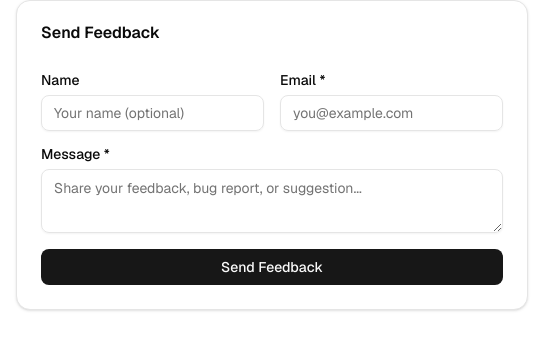
Test: FeedbackForm › shows the server error and resets the submit button when the request fails
In the field labelled "Email *": (392, 113) [280,95,503,131], type "user@example.com"
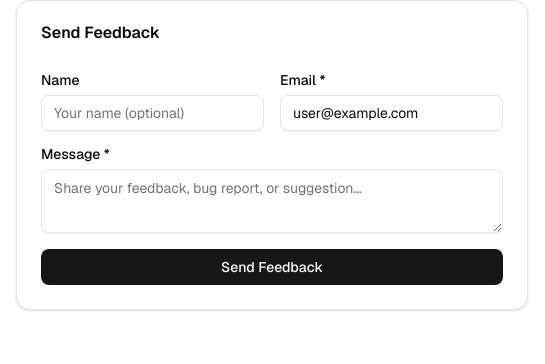
In the text box labelled "Message *": (272, 201) [41,169,503,233], type "Valid feedback message"
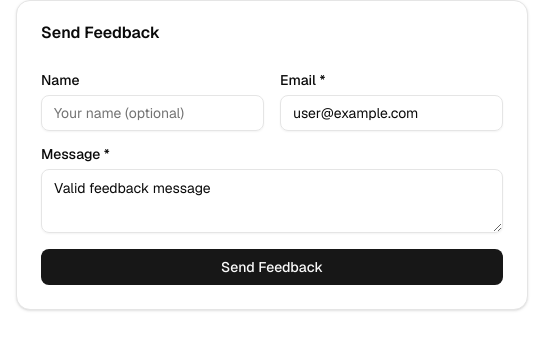
Submit the form "Name Email * Message * Send Feedback", box [41,73,503,285]
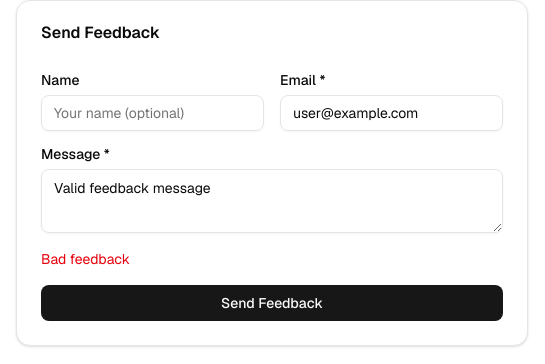
expect the button reads "Send Feedback": met, box [41,285,503,321]
expect the text "Bad feedback" is shown: met, box [41,250,130,268]
